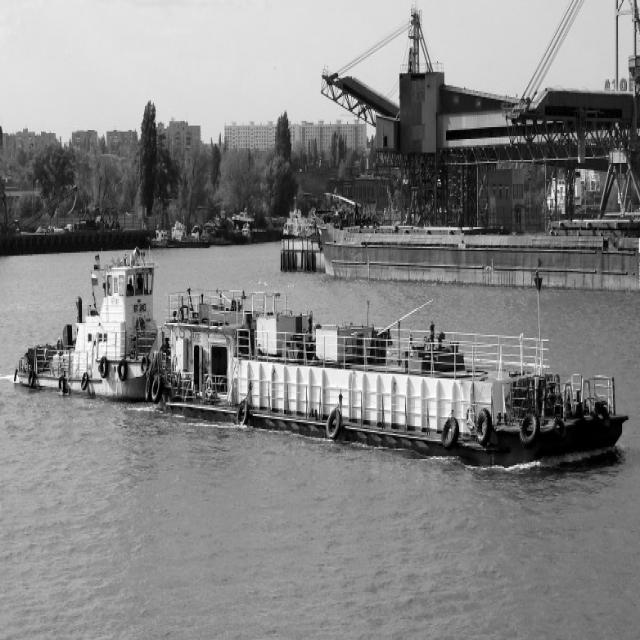tugboat: (16, 245, 170, 417)
